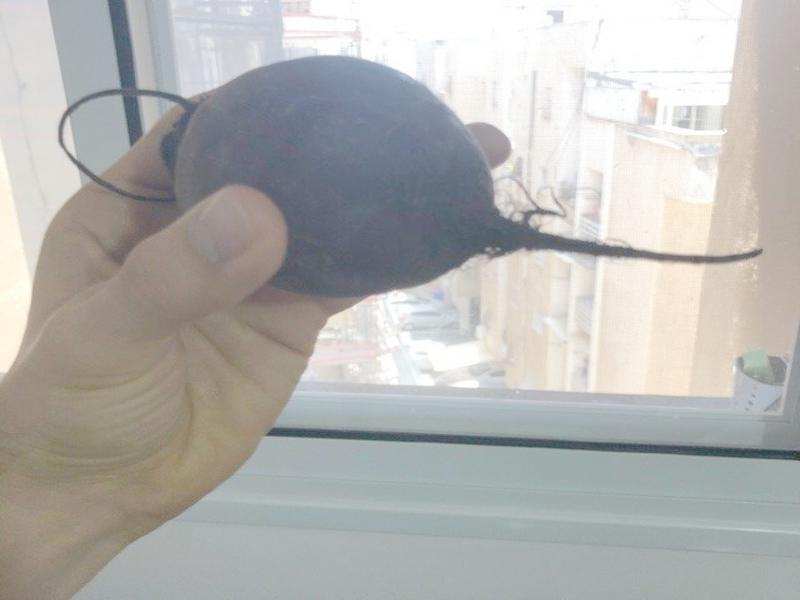Beet: (60, 54, 765, 296)
